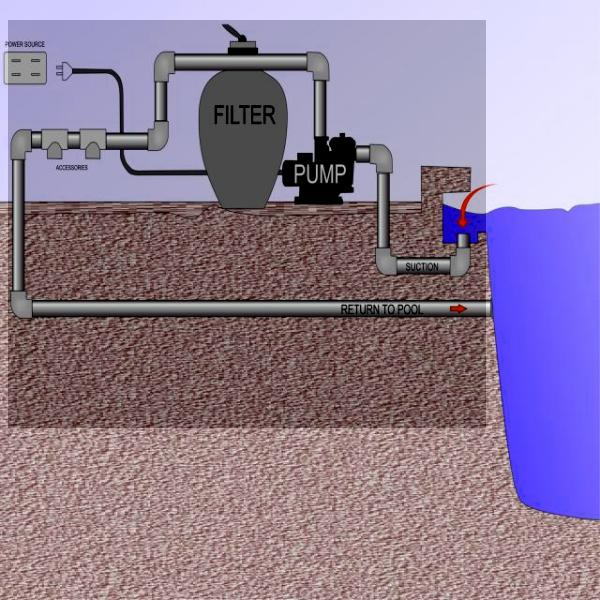no leak: (8, 20, 486, 428)
